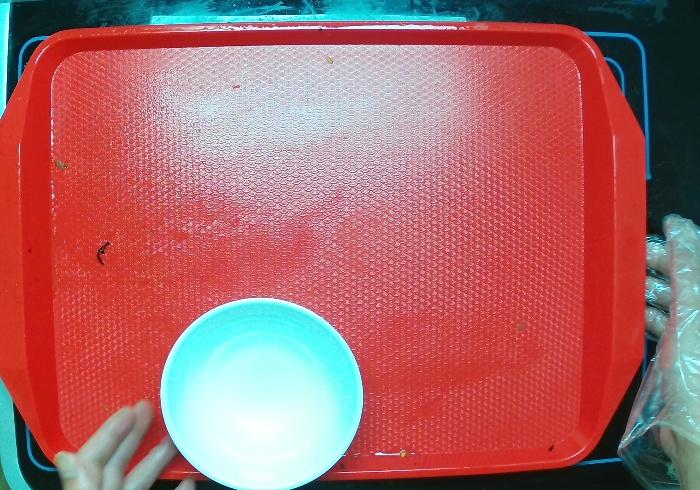YKMZ-Fan_Wan: (160, 298, 365, 490)
